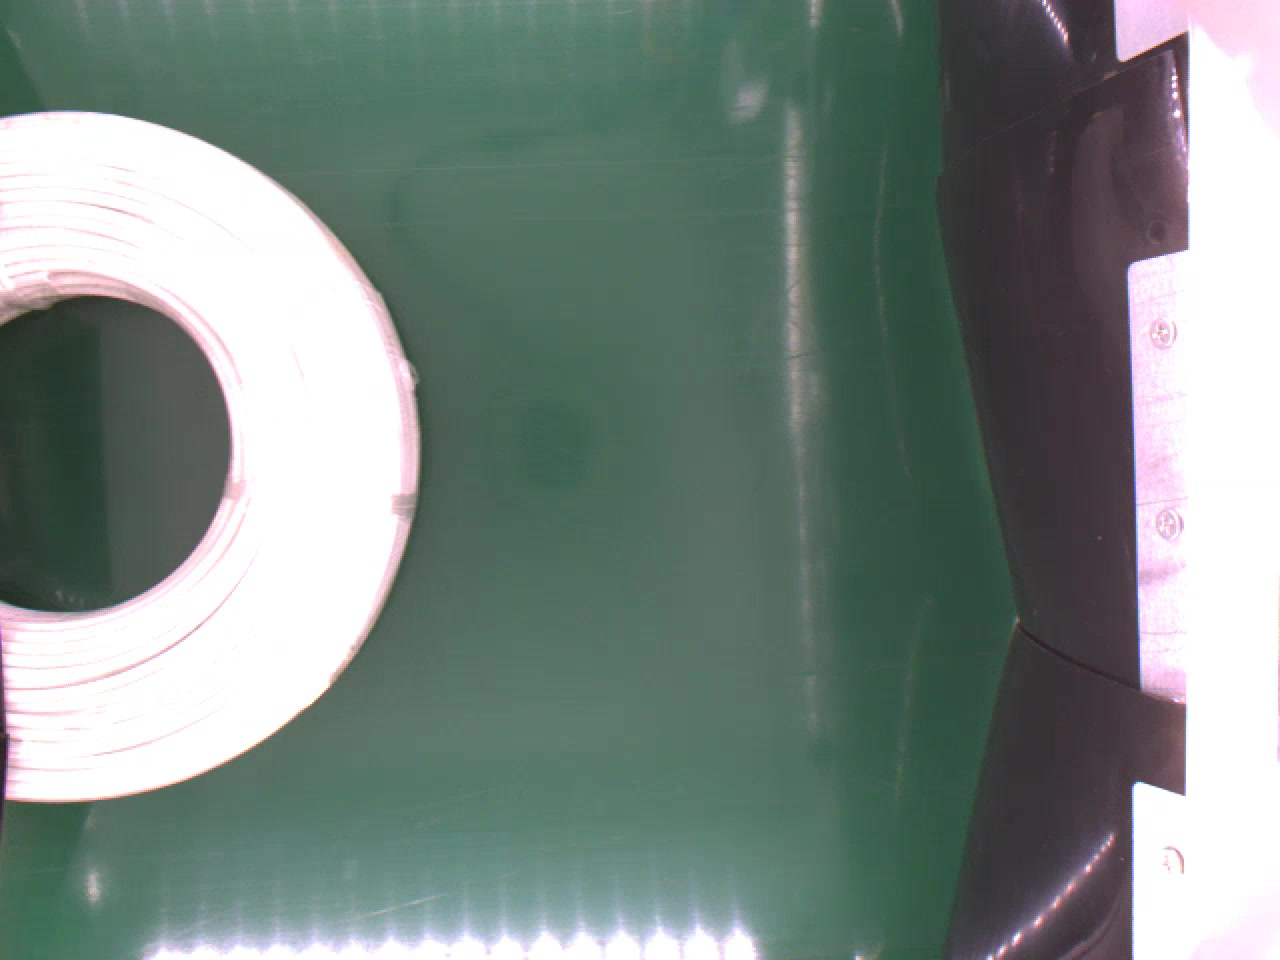white: (0, 106, 421, 806)
